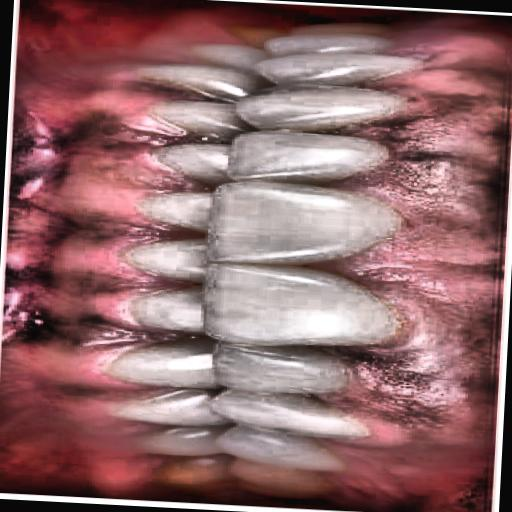Gingivitis: (345, 10, 512, 481)
